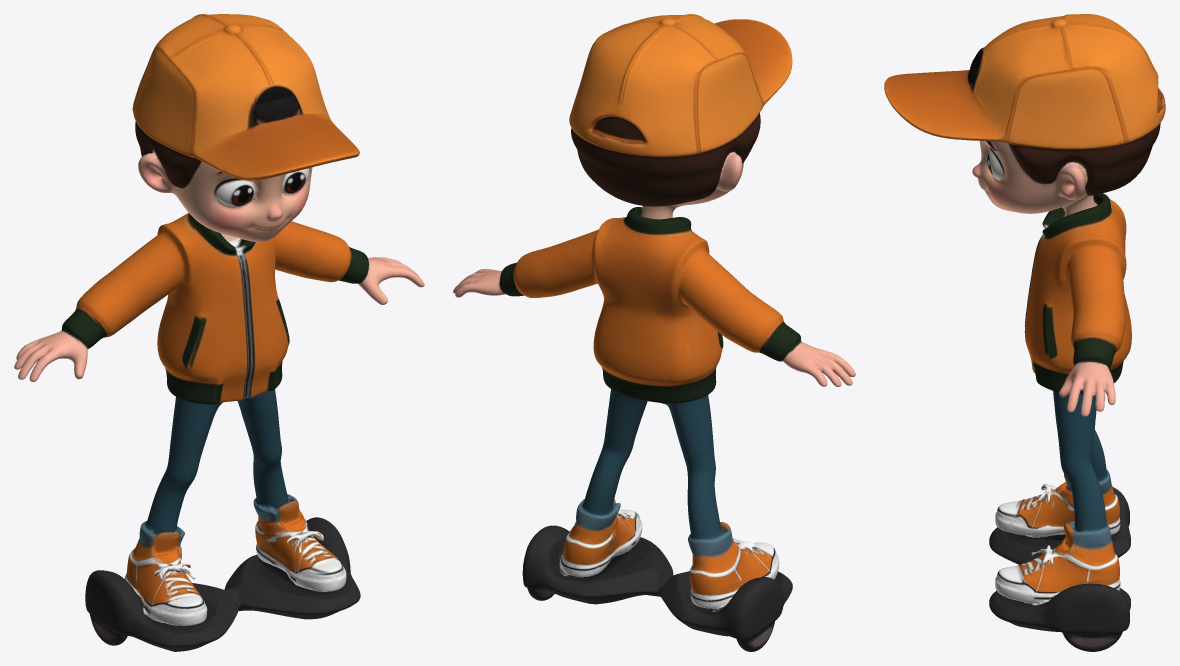
File: player_game.glb
The picture shows the model from 3 angles, left to right: view 1: azimuth 30°, elevation 25°; view 2: azimuth 150°, elevation 25°; view 3: azimuth 270°, elevation 25°; orthographic projection. The views are drawn at different scales.
Size of the model in its own units: 1.32 by 1.9 by 0.8333.
1 material, 1 textured.
